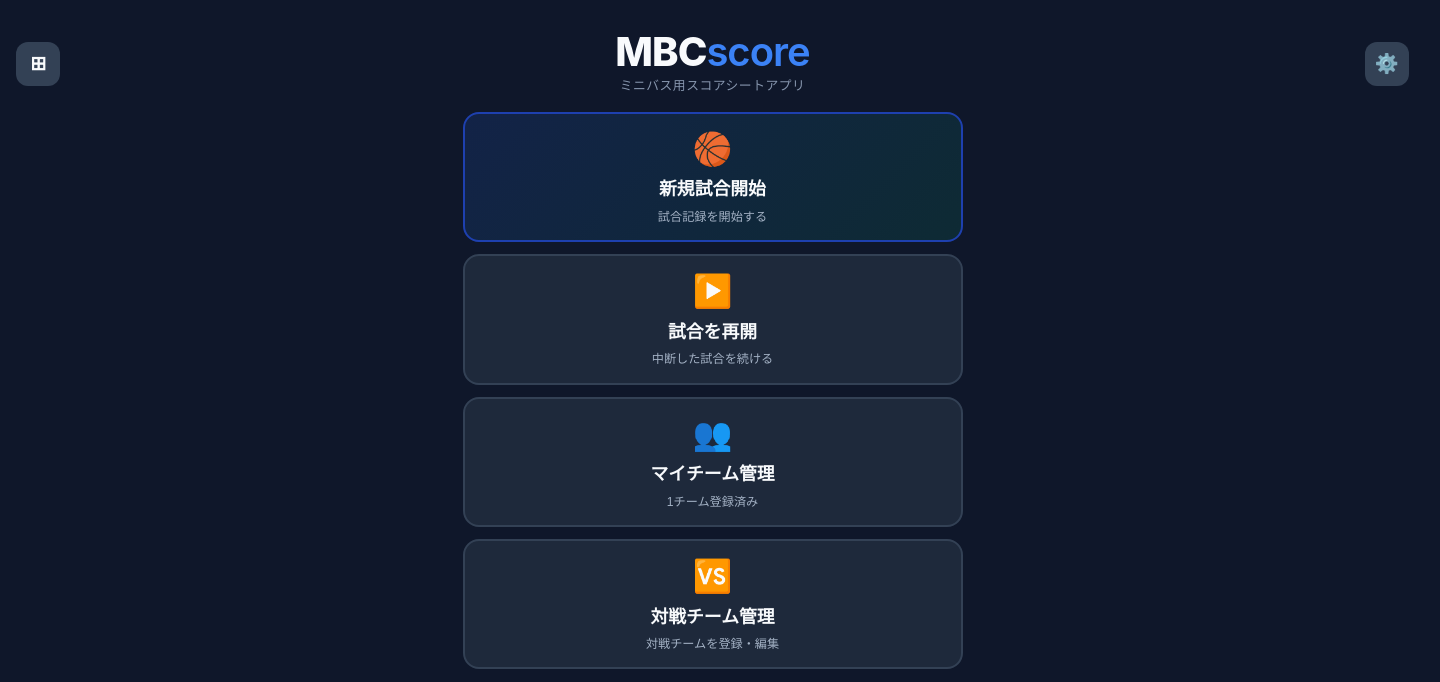
Scenario: App: 記録中でもアプリ設定に辿り着ける › ホーム画面からはこれまでどおり歯車で開ける
This screenshot has width=1440, height=682.
Click the button named "設定" at {"x": 1387, "y": 64}, box x1=1365 y1=42 x2=1409 y2=86
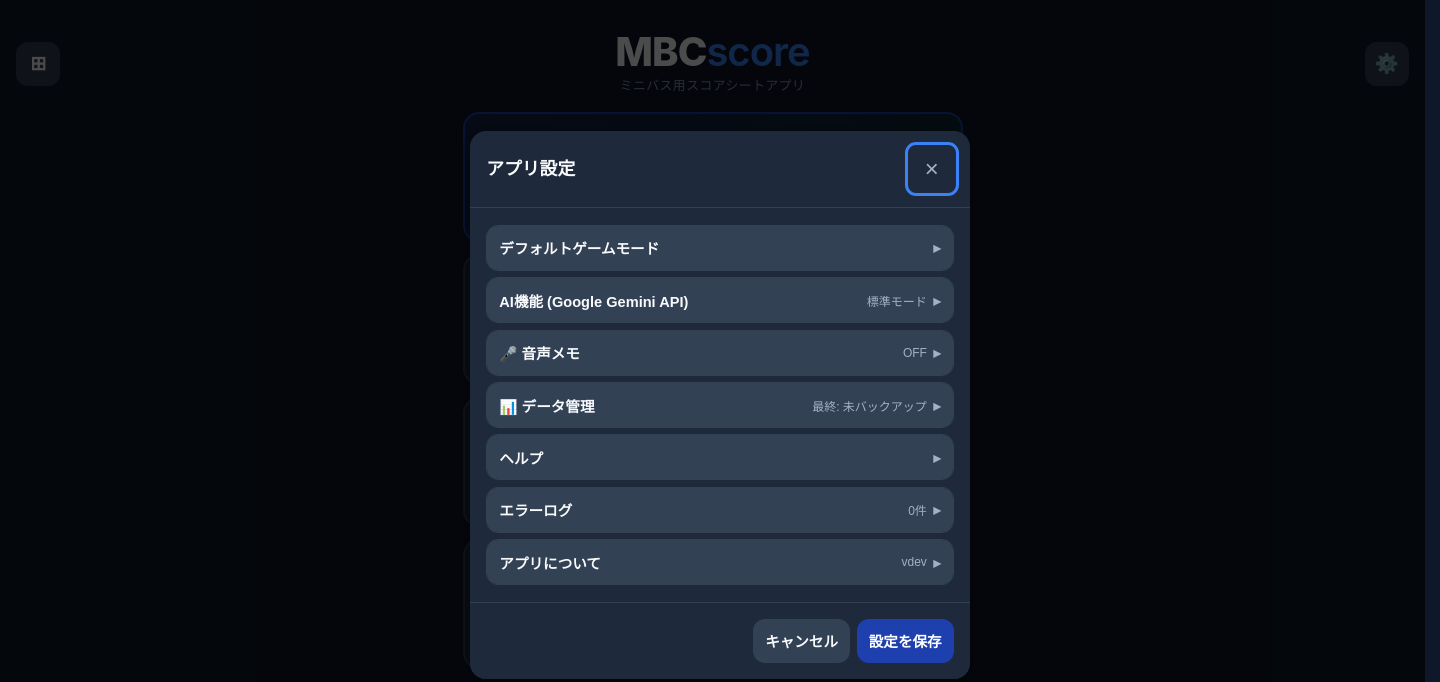
Check: the heading "アプリ設定" is shown, box x1=486 y1=156 x2=575 y2=183
